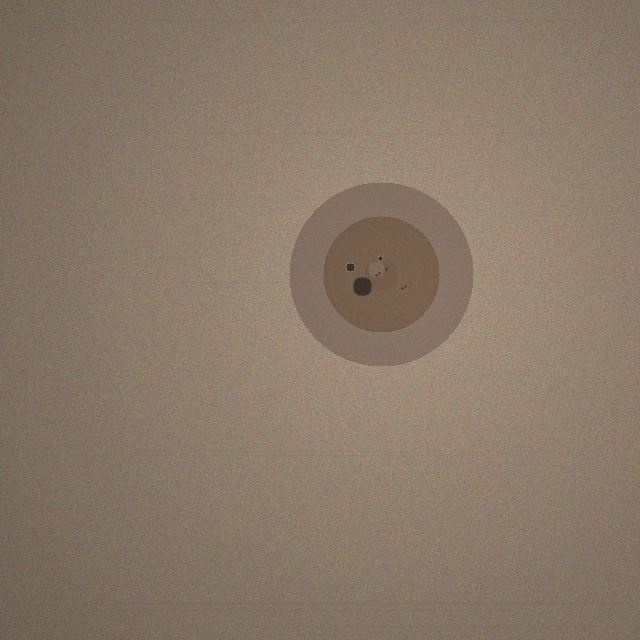shrinkage: (289, 182, 473, 366)
